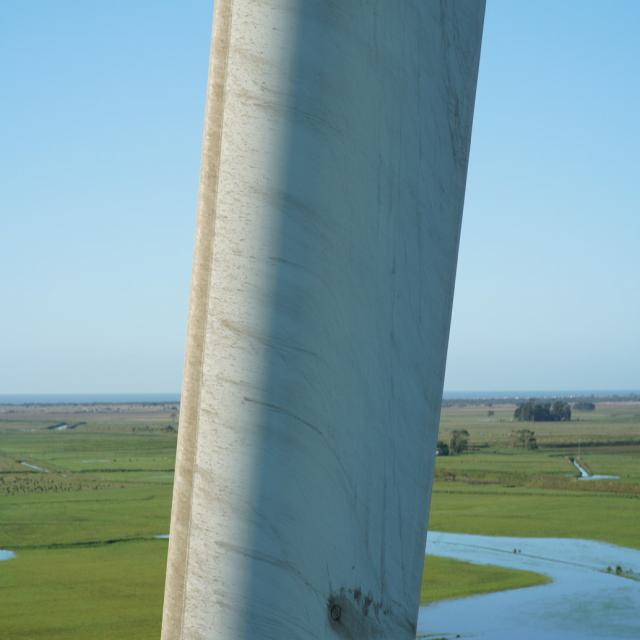Coating_defects: (328, 600, 344, 626)
